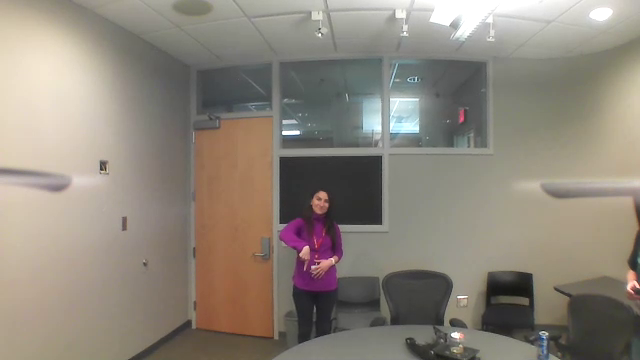down: (294, 241, 311, 275)
